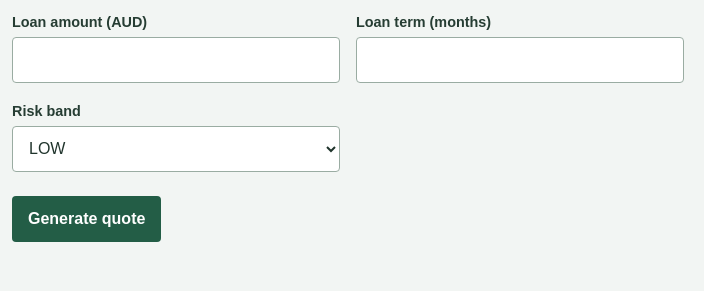
it: LoanQuoteForm › rejects invalid loan amount -25
Type "-25" into the number field labelled "Loan amount (AUD)".
click(176, 60); type("-25")  # box [12,37,340,83]
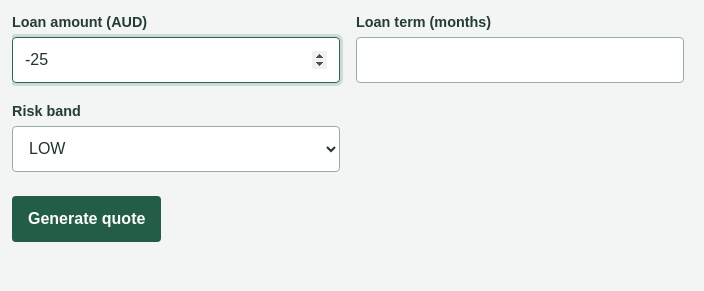
Type "12" into the number field labelled "Loan term (months)".
click(520, 60); type("12")  # box [356,37,684,83]
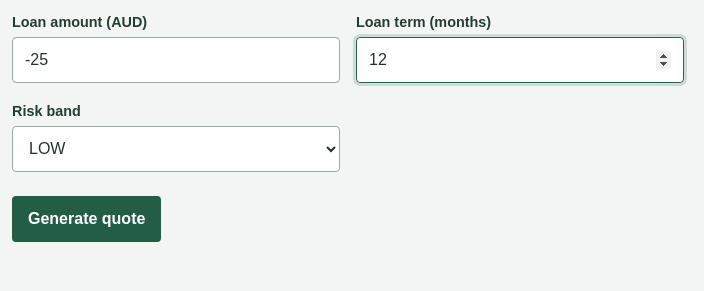
Click the button "Generate quote".
click(87, 219)  # box [12,196,161,242]
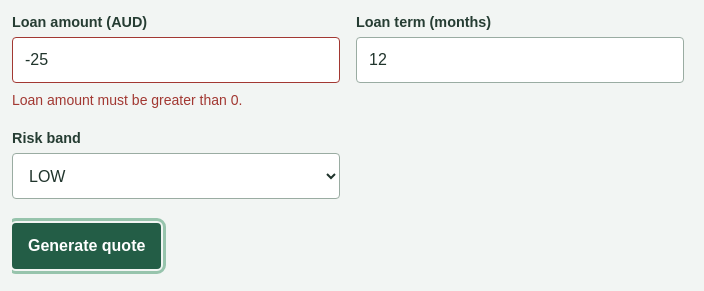
expect the text "Loan amount must be greater than 0." is shown: met, box [12,92,242,108]
